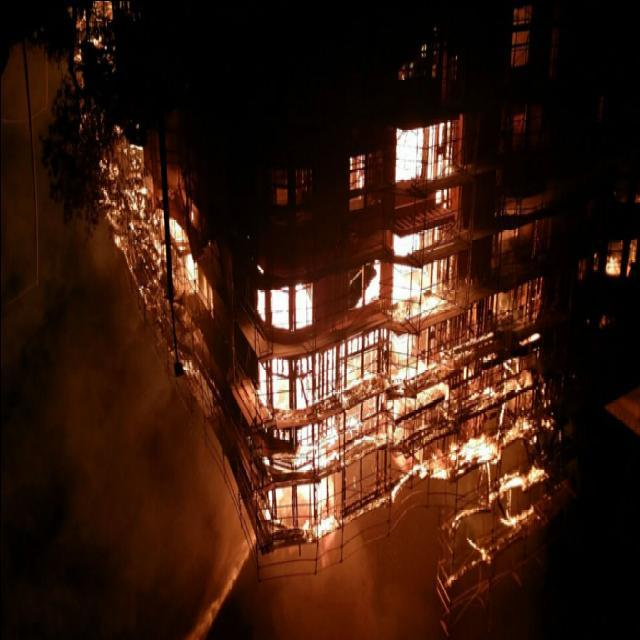Fire: (82, 94, 540, 576)
